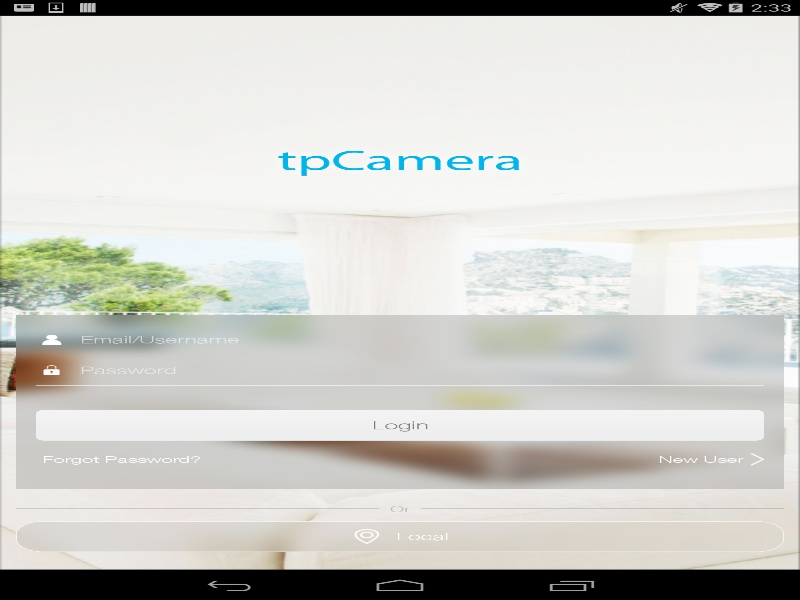Button: (36, 410, 764, 440)
Input: (80, 324, 729, 355), (80, 355, 729, 385)
